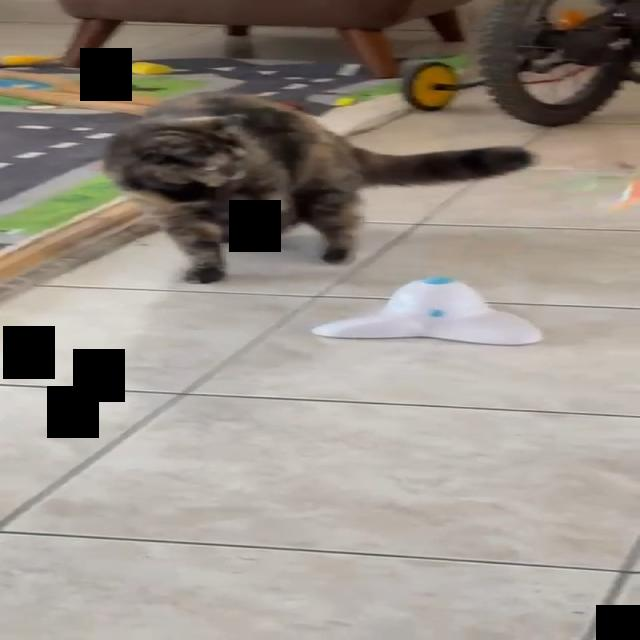authorized: (100, 90, 536, 284)
